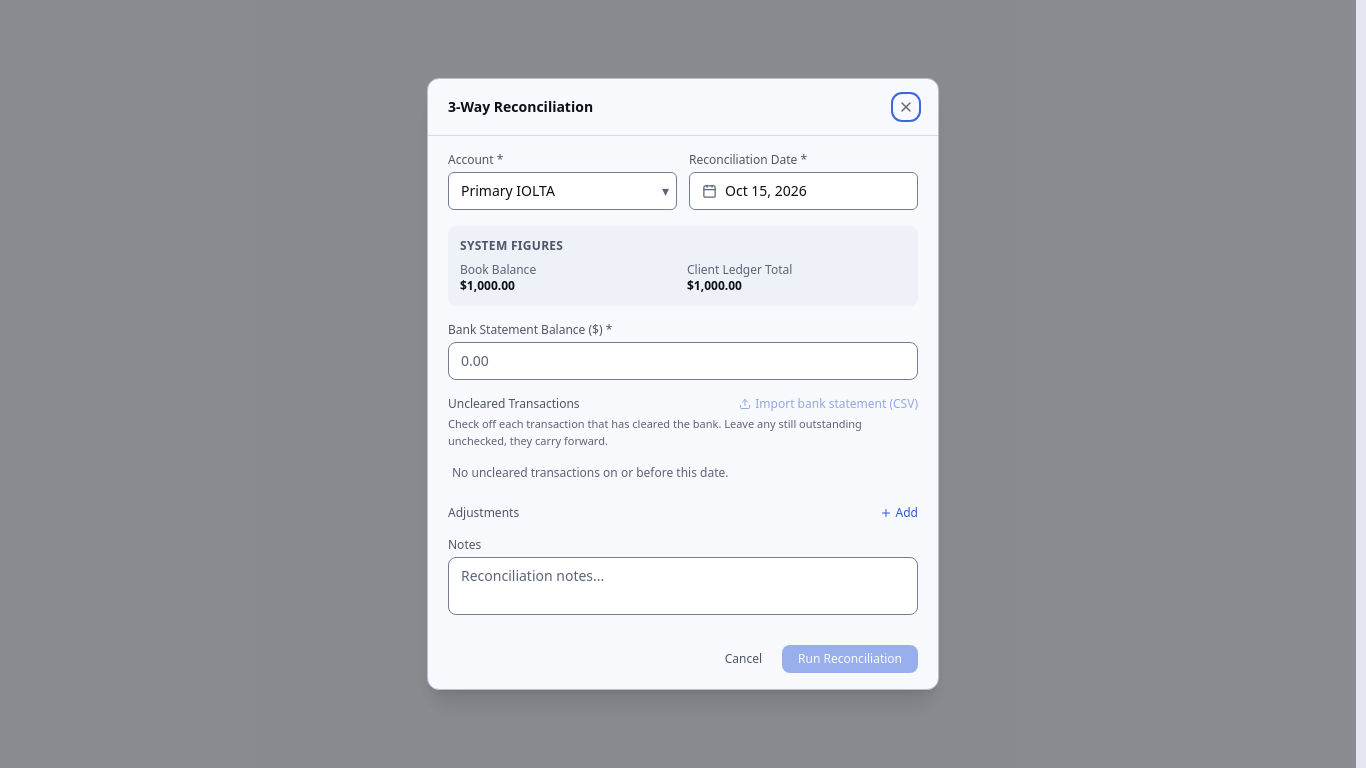
Test: signed money in the reconciliation › refuses a bank balance with a third decimal instead of rounding it
The image size is (1366, 768).
Expected: the text "Book Balance" is shown, [460,261,536,278]
In the number field labelled "Bank Statement Balance ($) *": [683, 361] box [448,342,918,380], type "1.005"
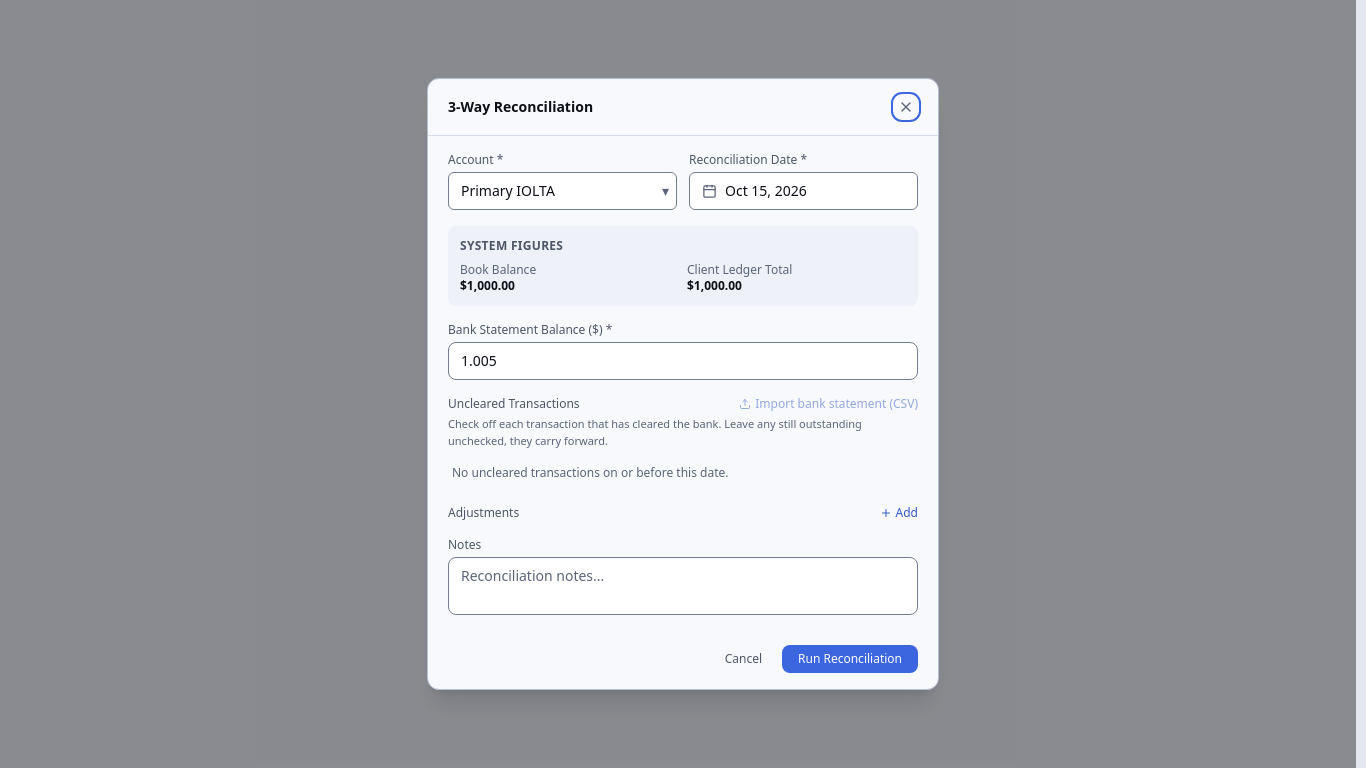
Click the button "Run Reconciliation": [850, 659] box [782,645,918,673]
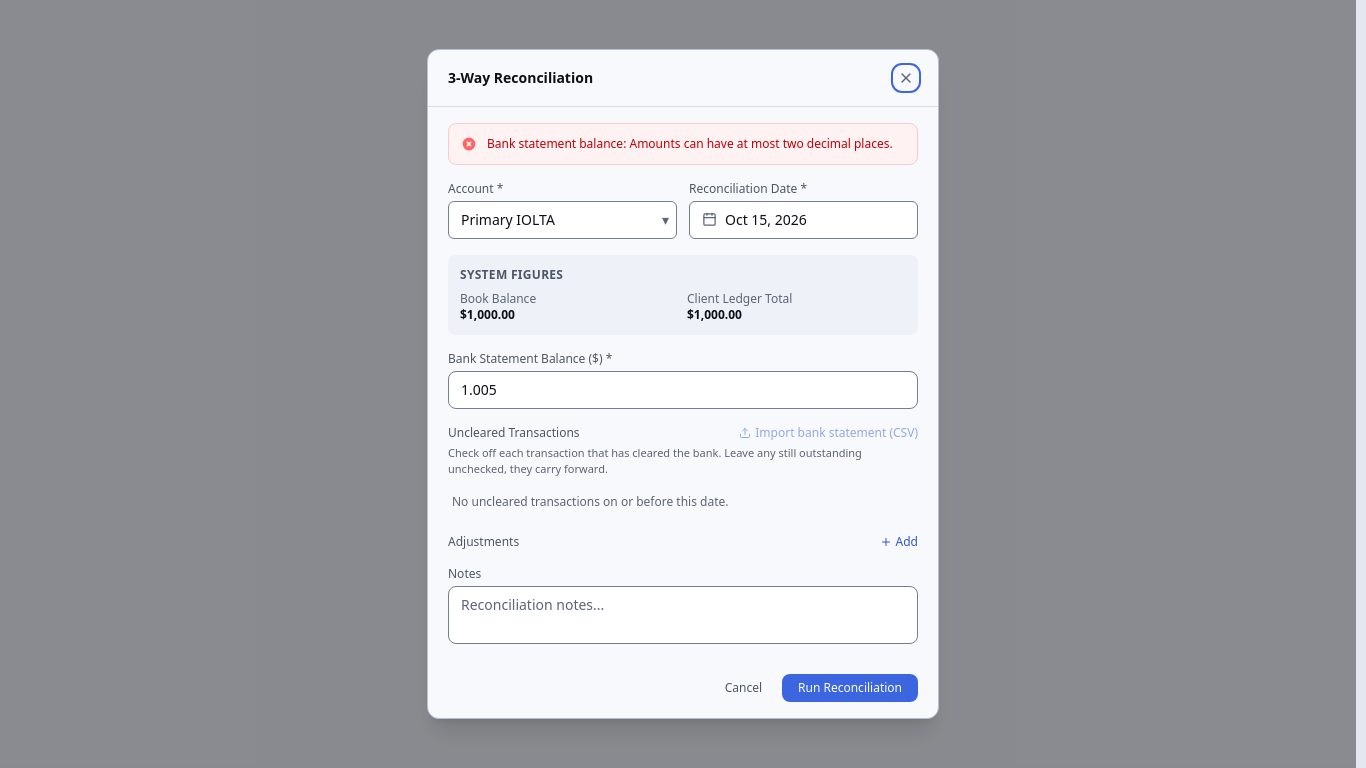
Result: the text "Bank statement balance: Amounts can have at most two decimal places." is shown at [487,134,905,154]
